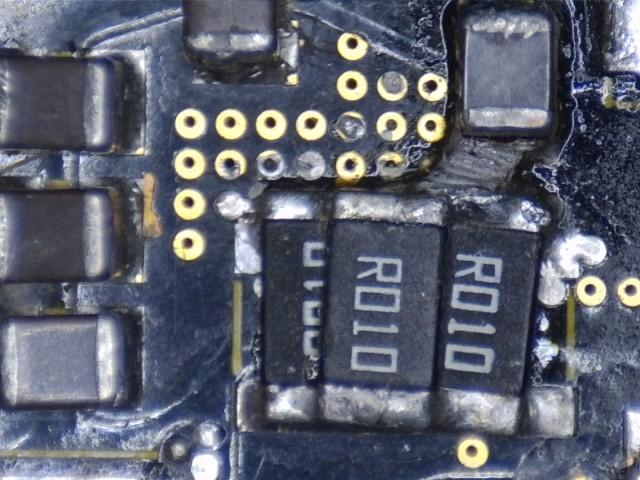Incorrect_installation: (231, 188, 580, 440)
Short_circuit: (214, 106, 609, 307), (236, 382, 576, 440)
